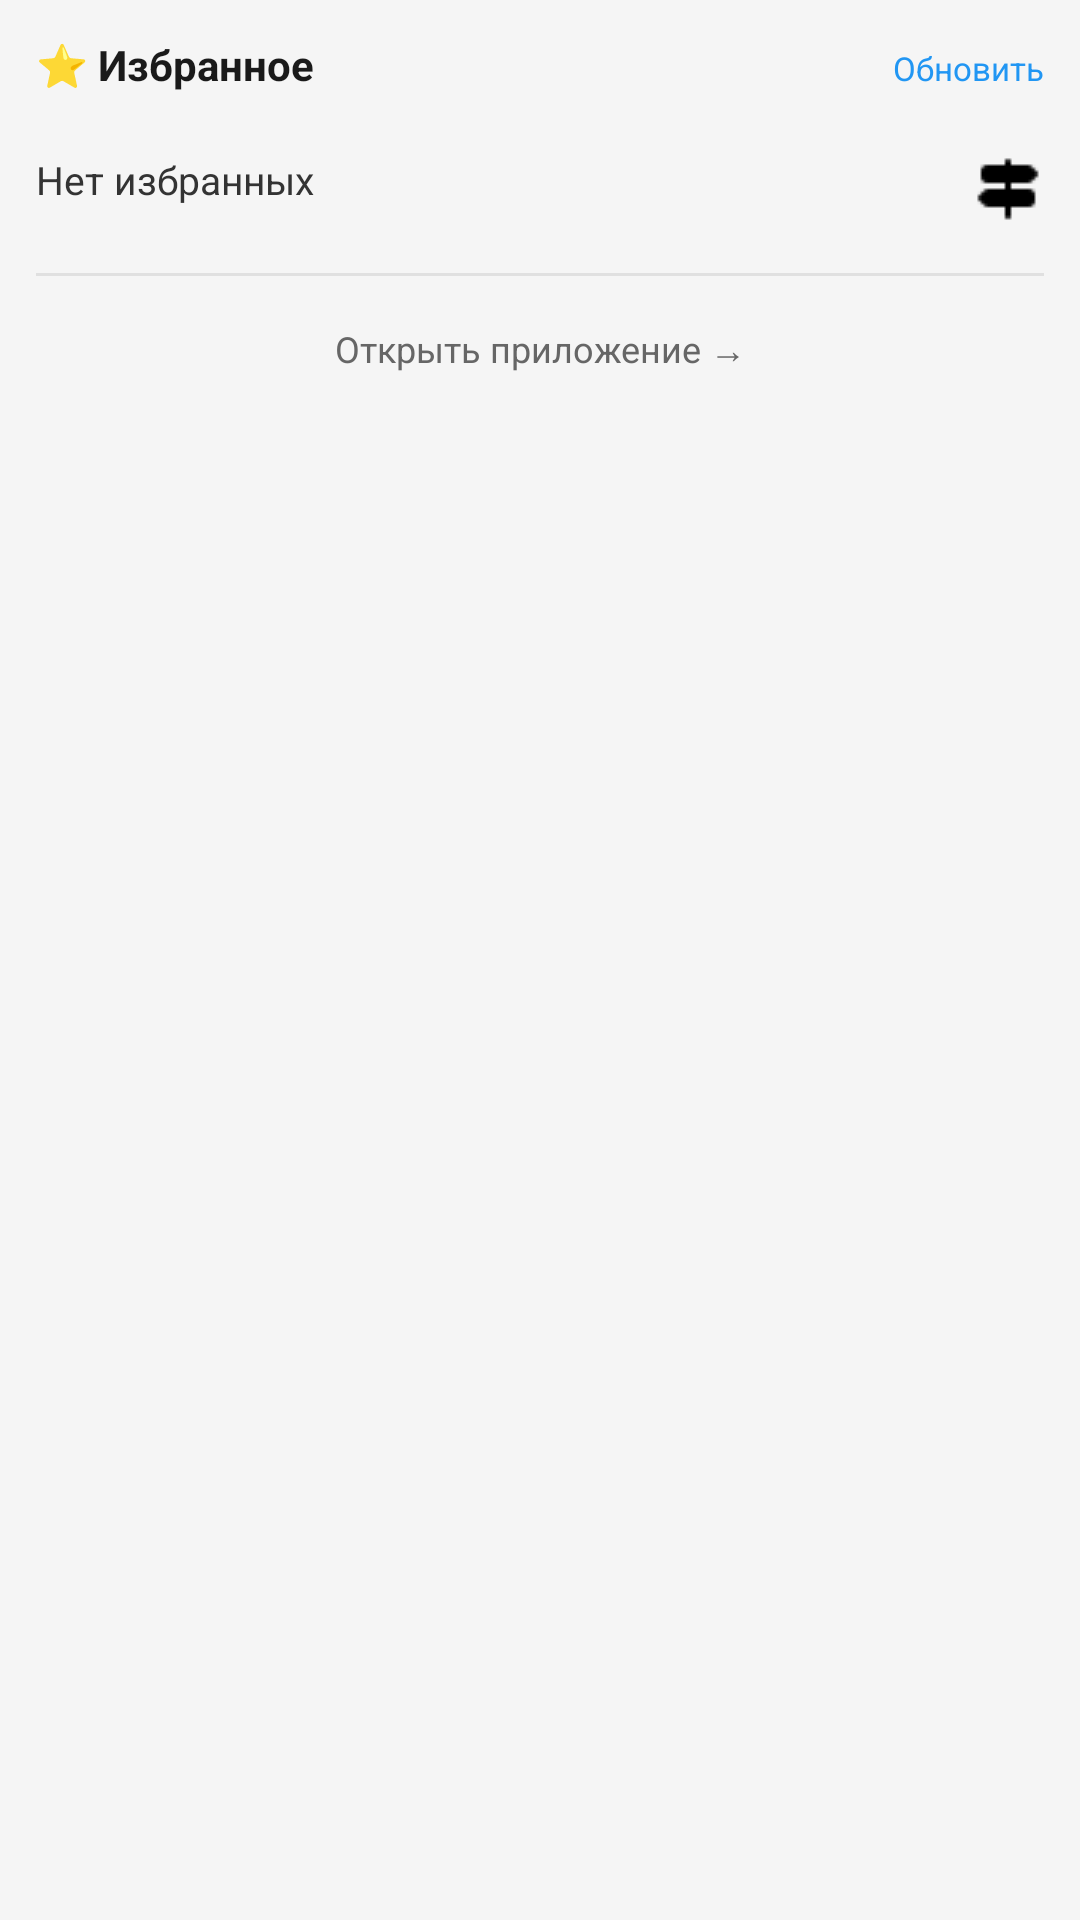

Named icons in this screenshot (1080 × 1920) and their centers, [x,y]:
directions: [1008,189]
